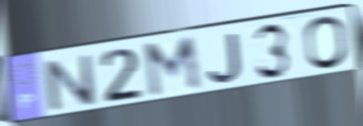2: (99, 47, 146, 106)
3: (250, 22, 298, 81)
J: (205, 30, 244, 85)
M: (141, 34, 205, 101)
N: (40, 52, 100, 114)
O: (302, 14, 351, 72)
